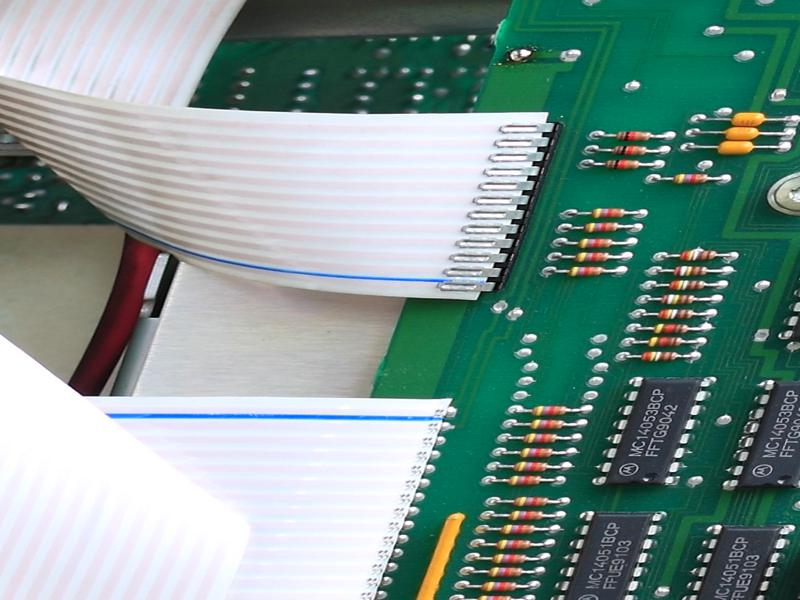Resistor: (579, 203, 637, 223), (662, 169, 718, 188), (571, 232, 622, 251), (671, 246, 724, 264), (561, 263, 613, 281), (610, 126, 661, 144), (646, 320, 700, 337), (524, 401, 575, 419), (564, 249, 620, 265), (667, 261, 719, 278), (649, 305, 701, 322), (634, 348, 684, 365), (598, 156, 646, 173), (576, 219, 627, 235), (656, 290, 701, 308), (486, 550, 535, 566), (639, 334, 691, 349), (507, 459, 554, 475), (500, 473, 550, 488), (504, 494, 554, 509), (480, 564, 530, 579), (476, 579, 526, 594), (662, 278, 715, 292), (512, 445, 561, 460), (609, 141, 652, 158), (521, 417, 573, 431), (494, 522, 545, 536), (491, 537, 538, 552), (502, 509, 551, 523), (518, 431, 566, 444)
